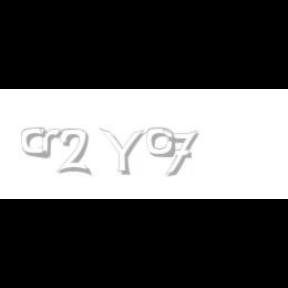2: (56, 128, 90, 176)
7: (162, 128, 199, 178)
Y: (99, 128, 145, 176)
c: (20, 128, 50, 160)
o: (146, 128, 176, 158)
r: (38, 128, 66, 158)
